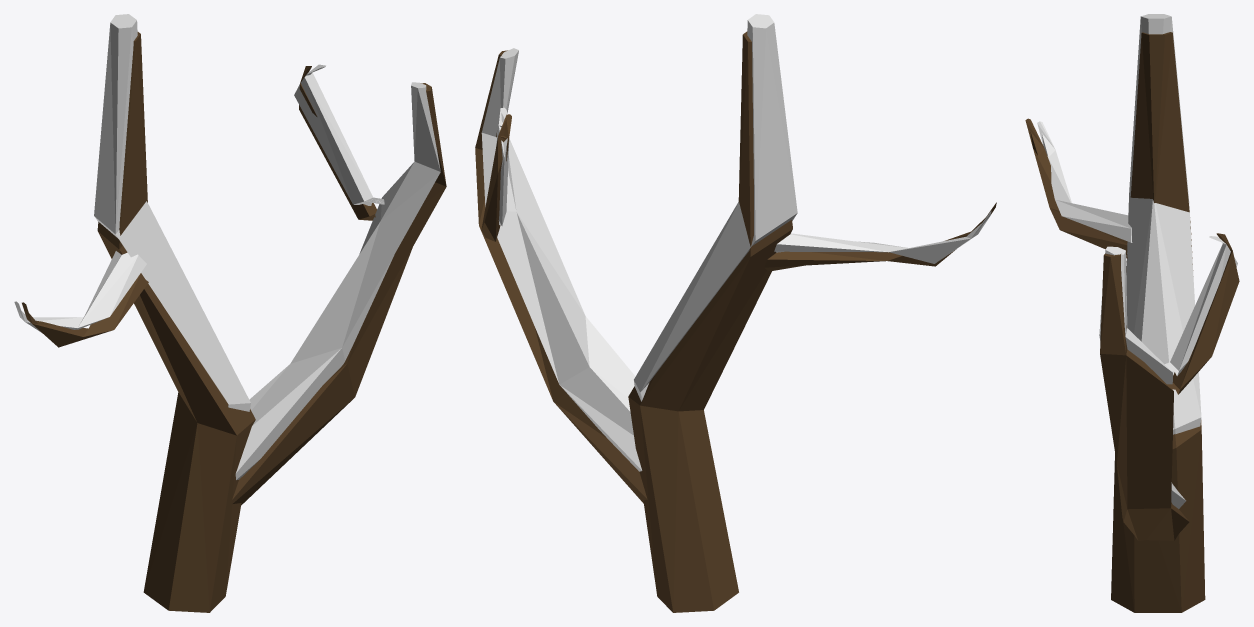
File: MagnoliaSmallWinter.fbx
3 views of the same model, side by side, from view 1: azimuth 30°, elevation 25°; view 2: azimuth 150°, elevation 25°; view 3: azimuth 270°, elevation 25° (orthographic). The views are drawn at different scales.
Visible parts, largest first — view 1: Magnolia_small_winter; view 2: Magnolia_small_winter; view 3: Magnolia_small_winter.
Boxes of the visible parts, left/top/right/bottom form: Magnolia_small_winter: left=14, top=14, right=446, bottom=612; Magnolia_small_winter: left=475, top=14, right=996, bottom=612; Magnolia_small_winter: left=1025, top=14, right=1239, bottom=612.
Bounding box in the file's own units: 0.6602 × 0.79 × 0.2753.
